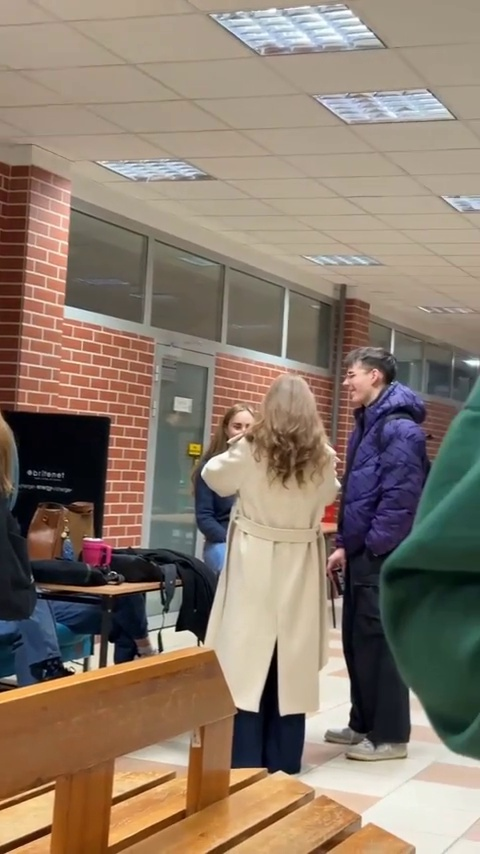no vest: (211, 364, 331, 725), (338, 343, 439, 717)
